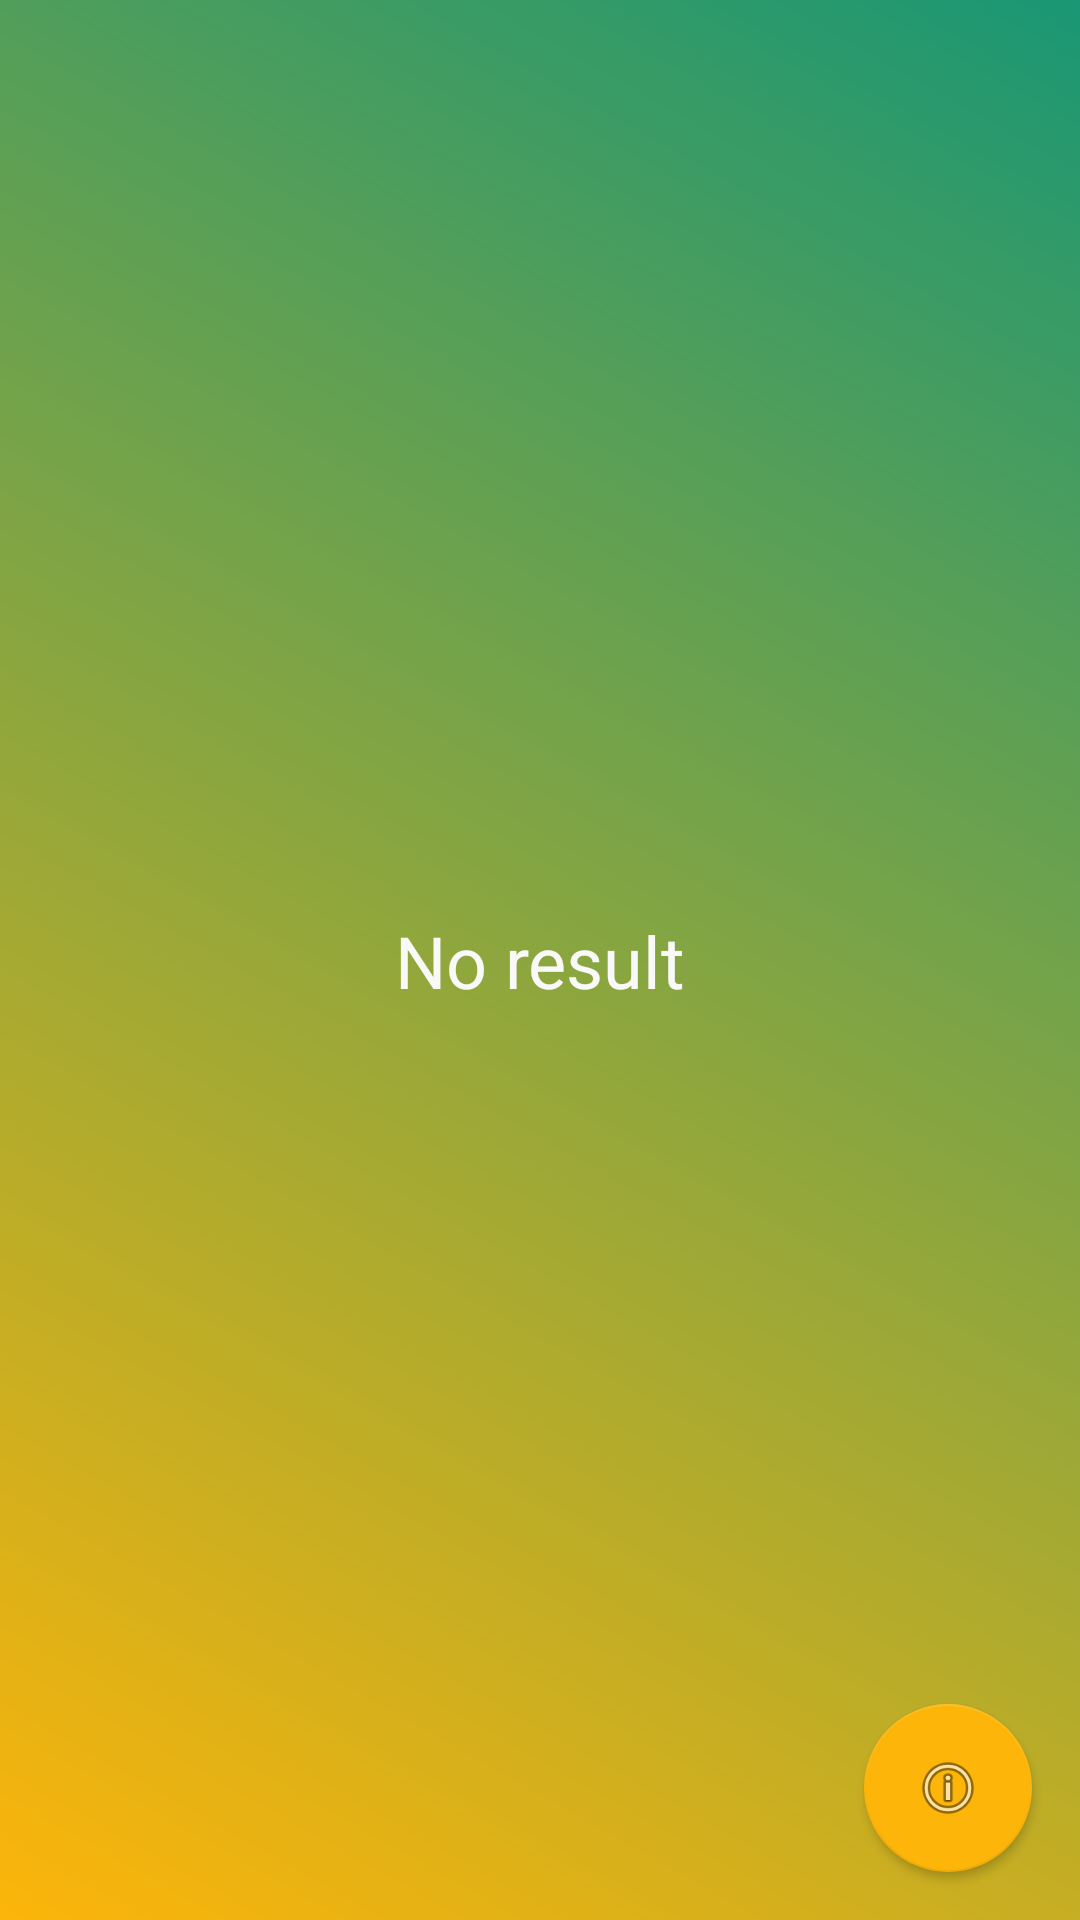

Locate icon controls on the screen. Image size 1080 x 1920, boxes as {"left": x1, "top": y1, "right": x2, "bottom": y2}.
info details: {"left": 864, "top": 1704, "right": 1032, "bottom": 1872}
